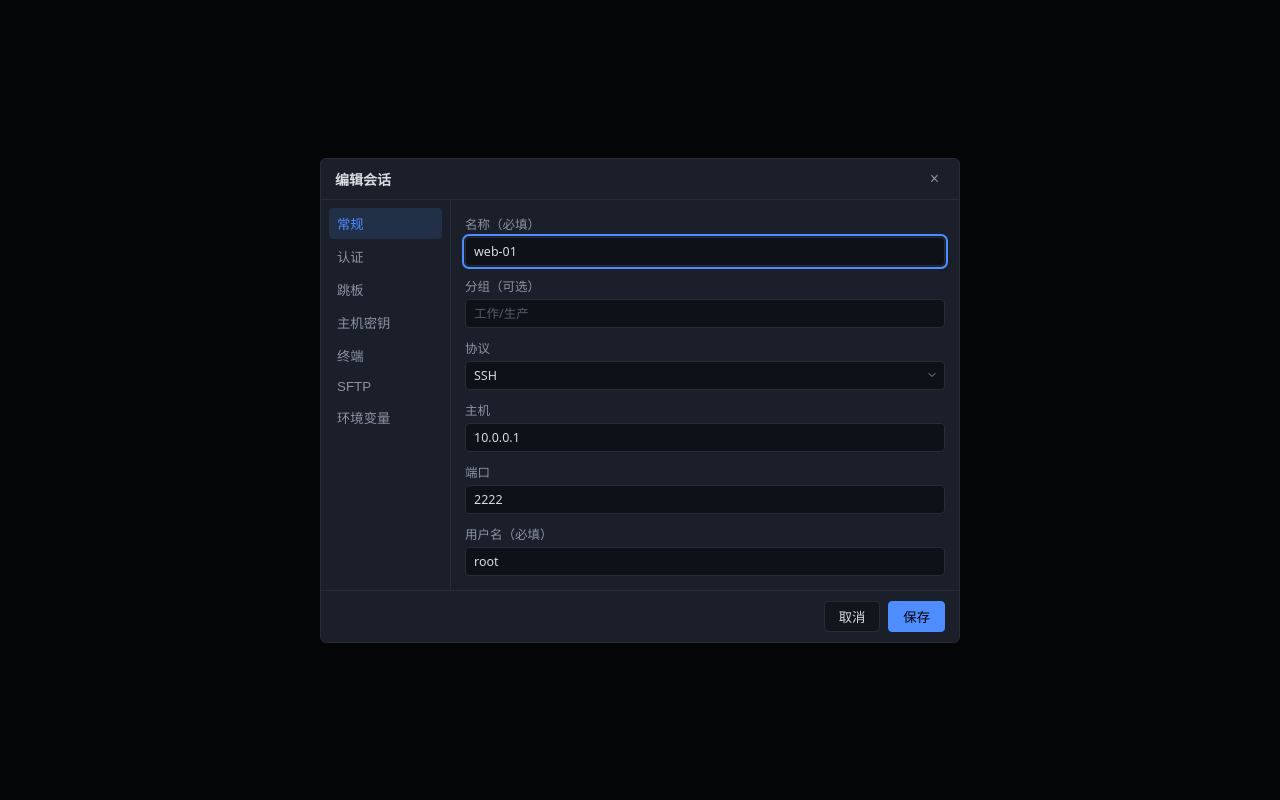
Test case: ProfileDialog · 钉扎指纹 › 信任库读取失败 → 展示错误，不静默给出空列表（否则会被误读为「这台主机没有记录」）
Click the tab "主机密钥".
click(386, 322)  # box top-left (329, 306), bottom-right (442, 338)
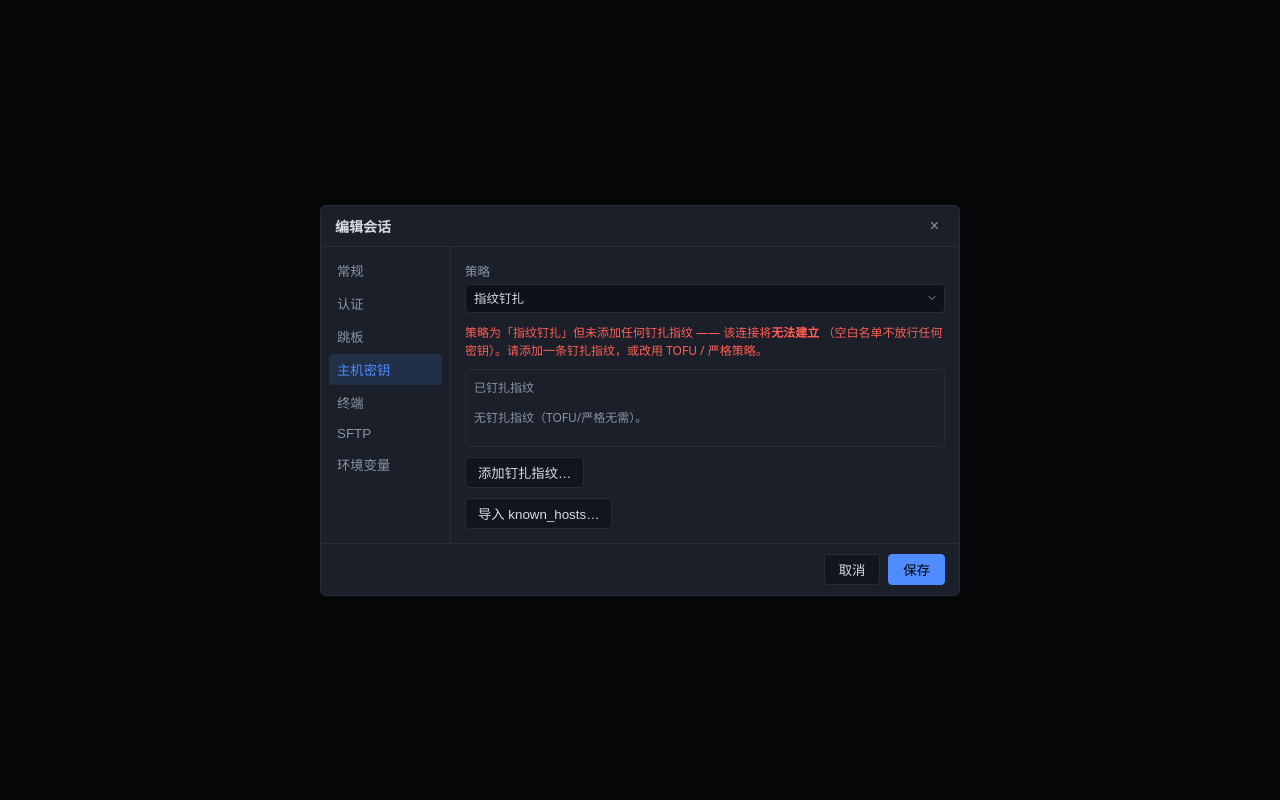
Click the button with test id "pf-add-pin".
click(525, 472)  # box top-left (465, 456), bottom-right (584, 488)
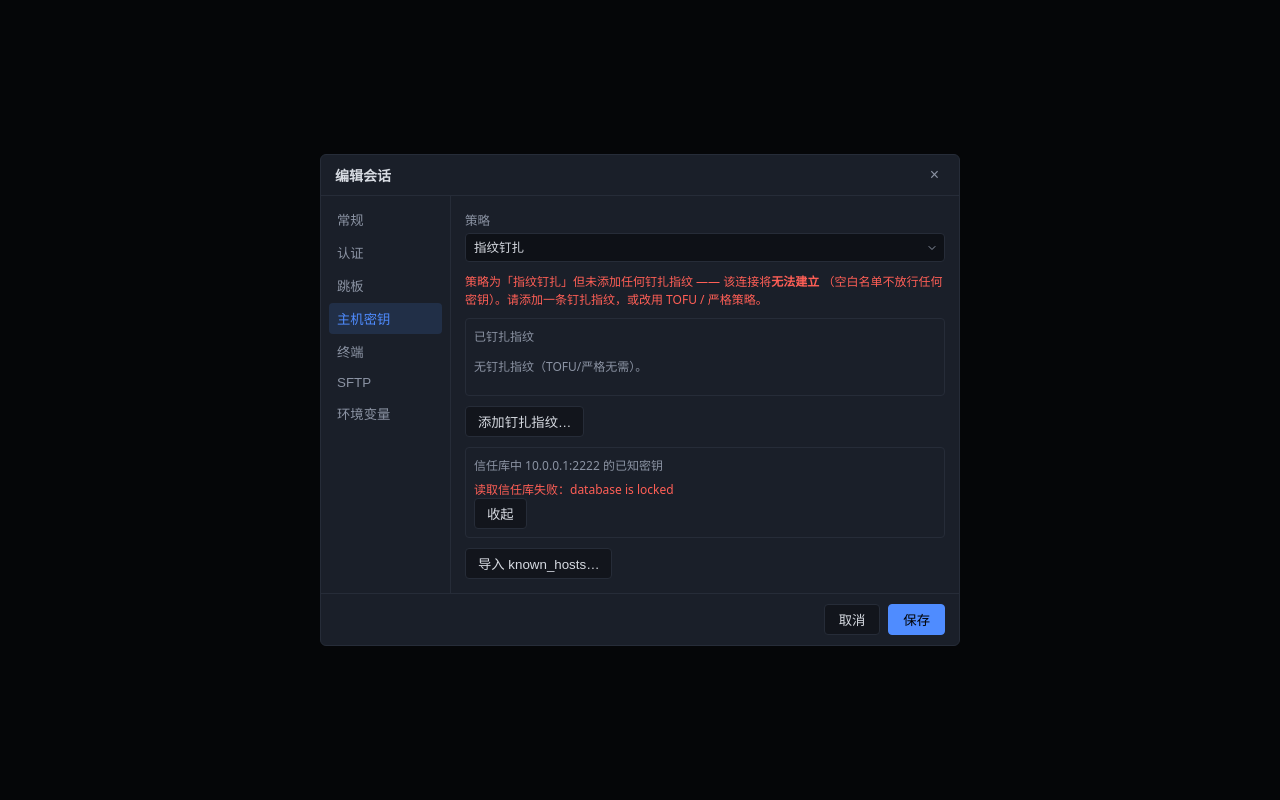
Expected: the element with test id "pf-pin-picker" shows "读取信任库失败", top-left (474, 481), bottom-right (674, 498)
